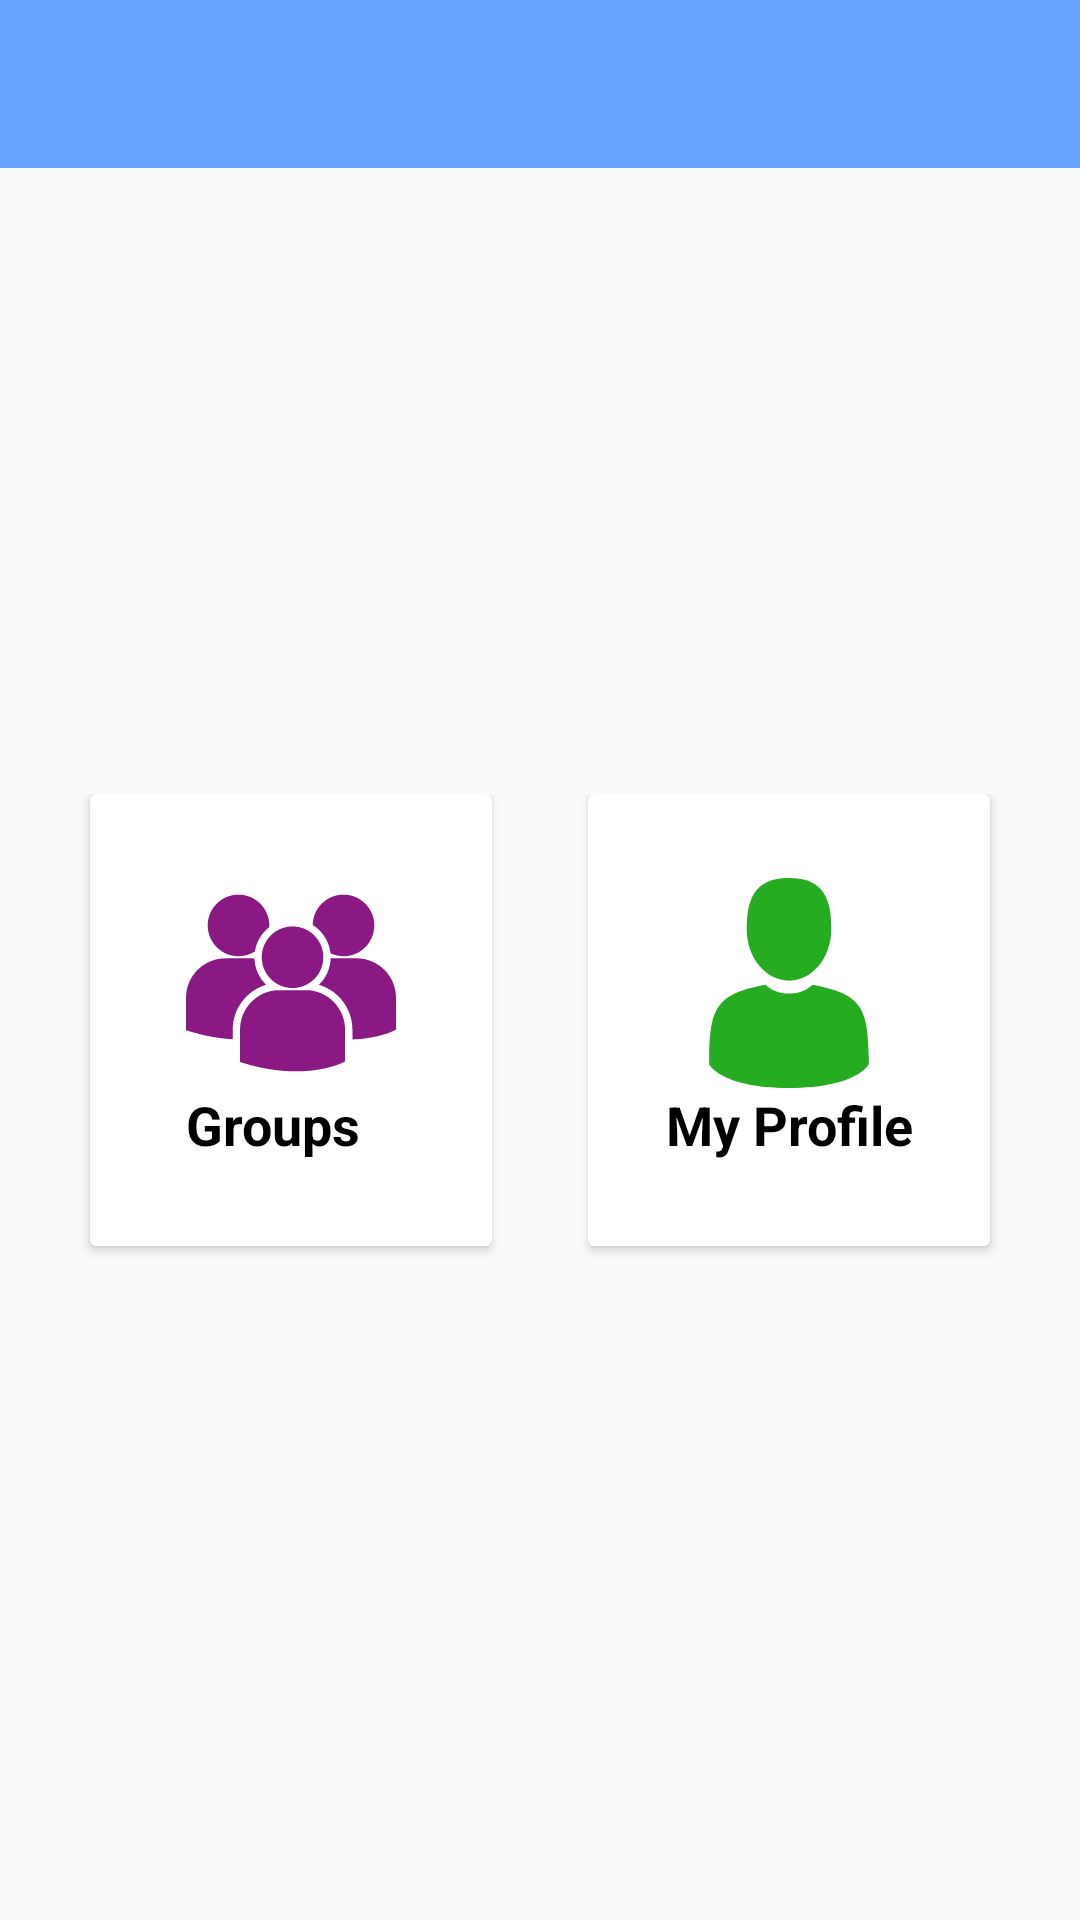

Icons on this 1080 × 1920 Android screen, each with its box as bbox(x1, y1, x2, y2):
user: bbox(709, 878, 869, 1088)
